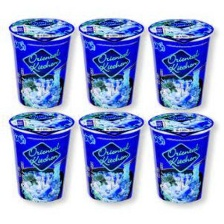paper_cup: (74, 108, 147, 206), (144, 109, 216, 208), (5, 107, 77, 206), (143, 13, 216, 110), (74, 13, 146, 109), (5, 13, 77, 109)
